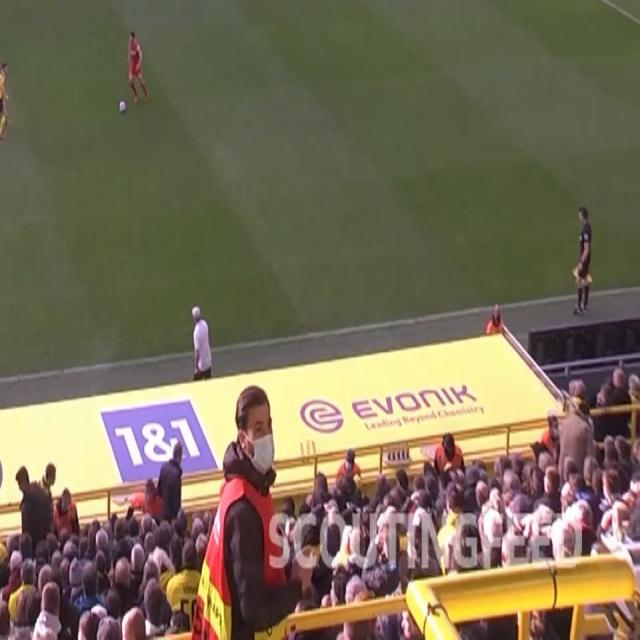ball: (118, 98, 127, 114)
